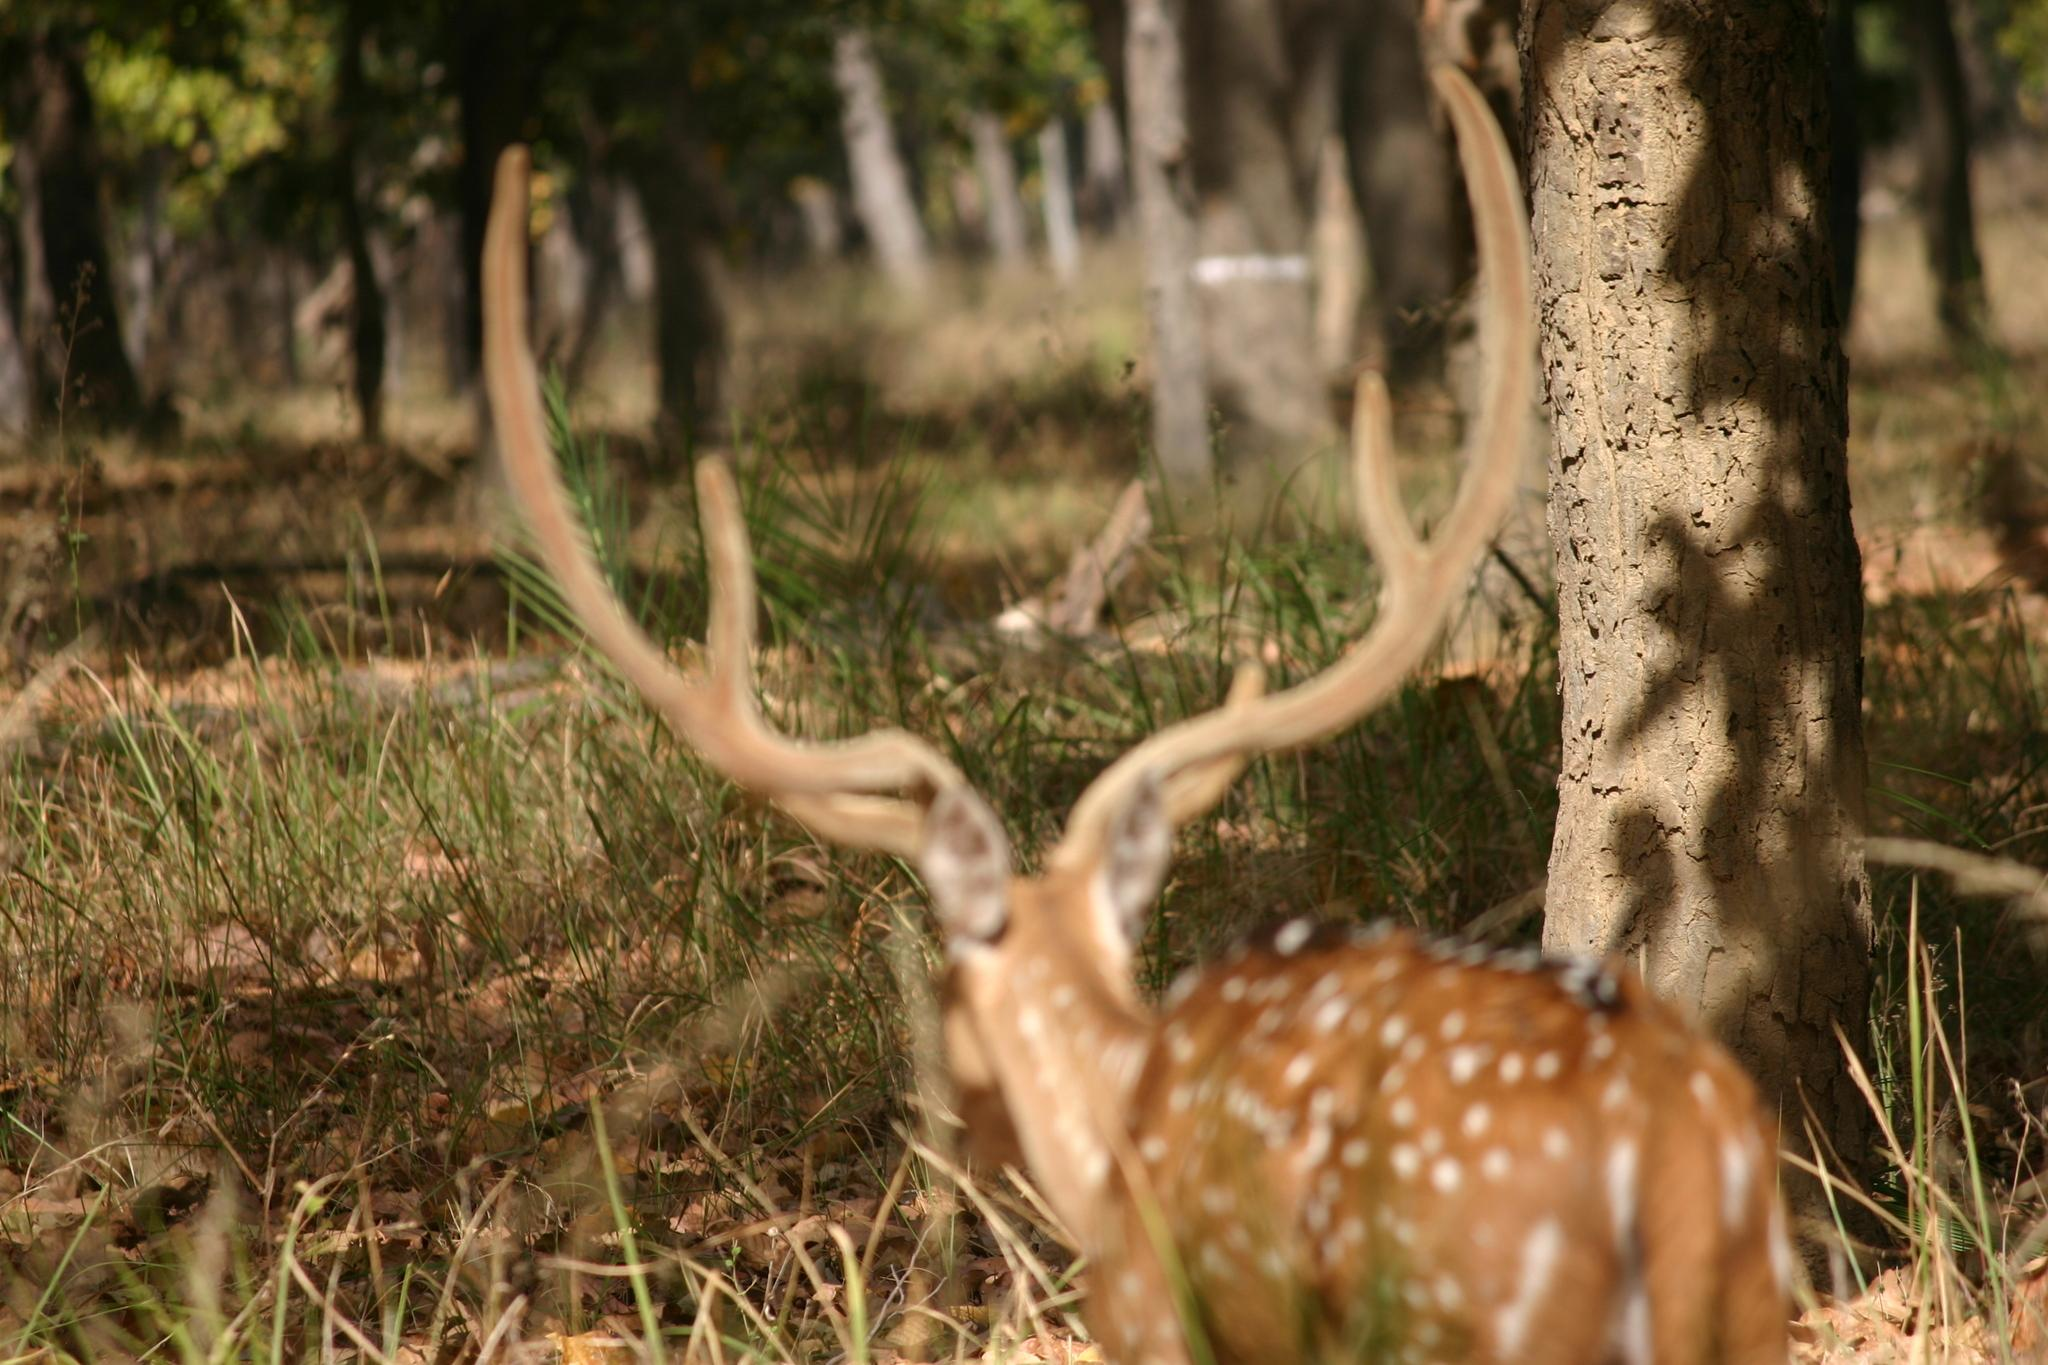Deer: (483, 59, 1792, 1360)
